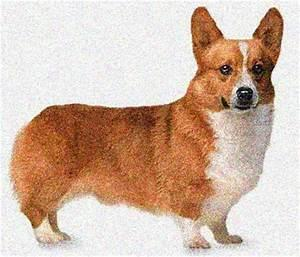dog: (7, 5, 284, 250)
